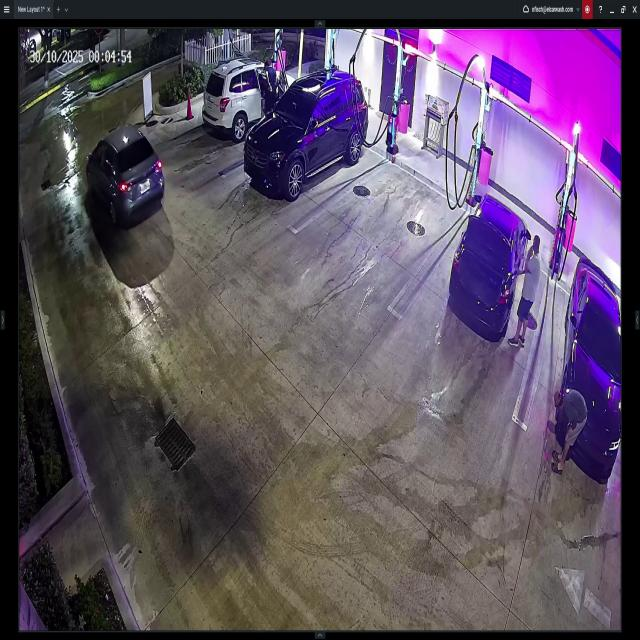Car: (241, 69, 369, 202), (561, 256, 619, 481), (449, 193, 530, 340), (88, 123, 165, 226), (199, 62, 297, 140)
